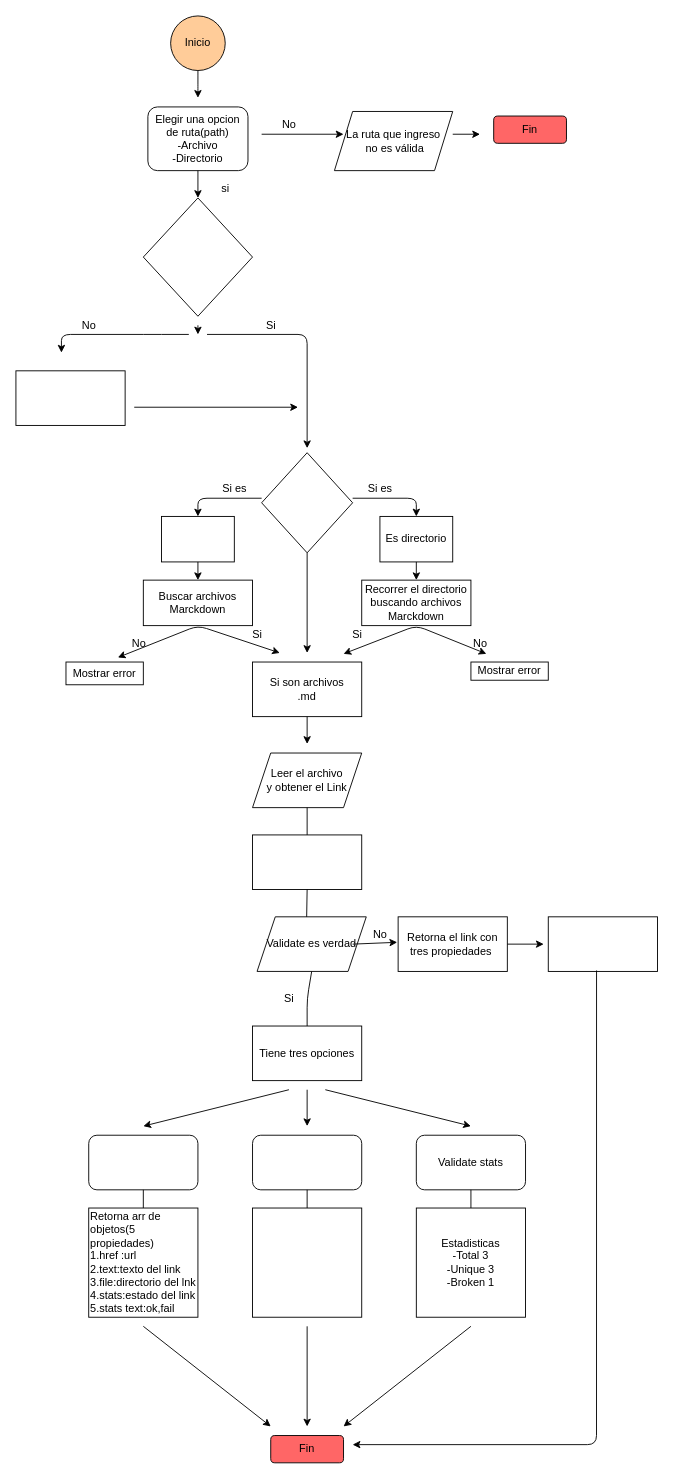
Some shapes in this 673 by 1479 pixel diagram are drawn without their labels. Each missing label, with the centre of its shape:
- href :url - text: texto del link - file:directorio del link: point (602, 943)
Debe ser ruta absoluta(se debe convertir a ruta absoluta): point (70, 397)
Elegido el path ¿La ruta es absoluta?: point (197, 256)
Es archivo: point (197, 539)
Estadisticas -Total 3 -Unique 3: point (307, 1262)
Ingresar los datos del Link a un arr de objetos: point (307, 862)
Stats: point (307, 1162)
Validate: point (143, 1162)
¿Es directorio o archivo?: point (307, 502)
